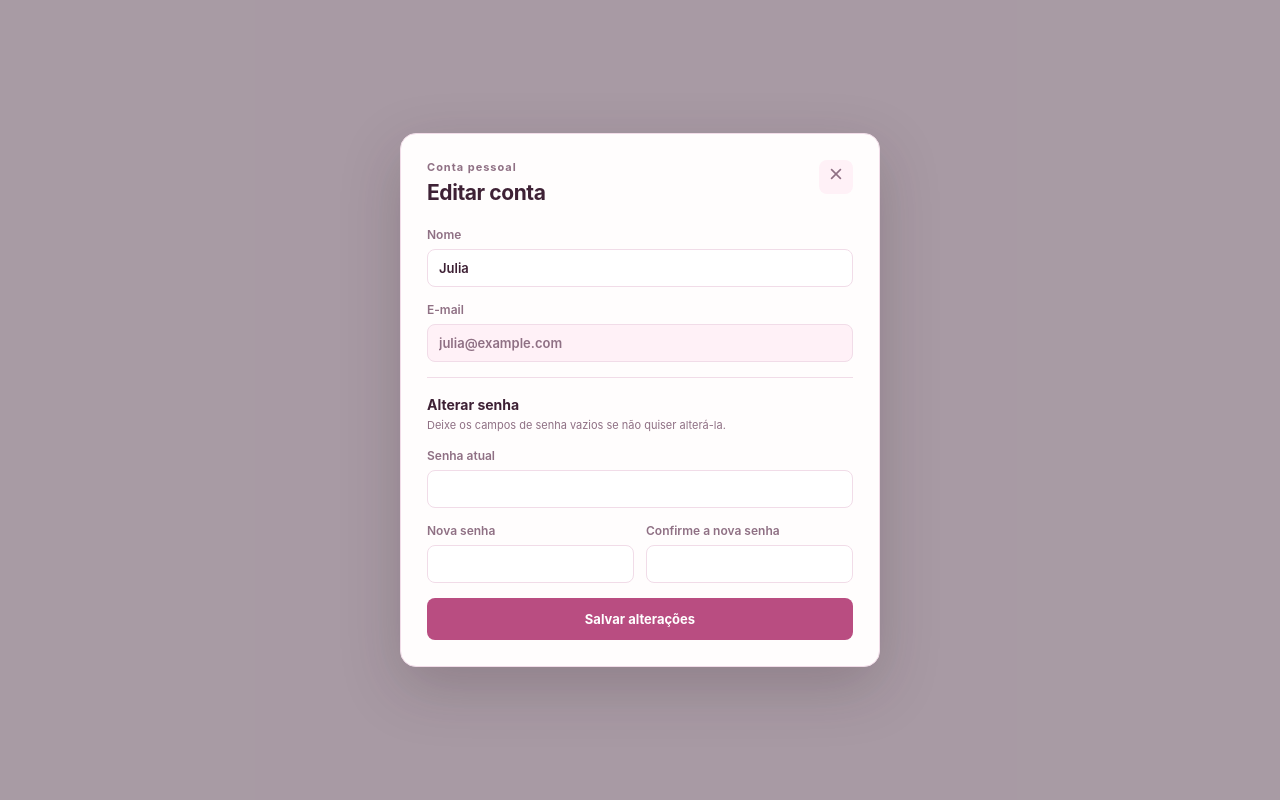
it: updates the account name and changes the password with the current password
Replace the text in the field labelled "Nome" with "Julia Costa": (640, 268) [427,249,853,287]
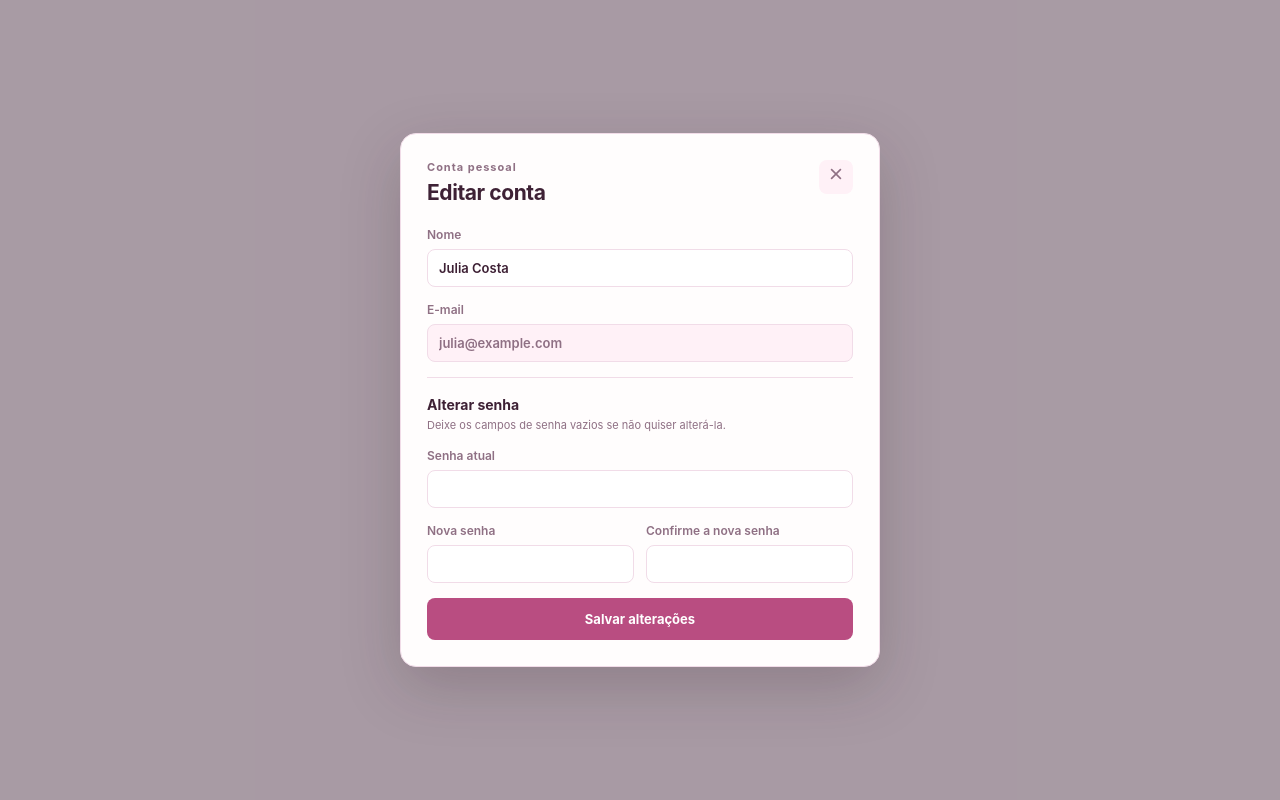
In the password field labelled "Senha atual": (640, 489) [427,470,853,508], type "old-password"
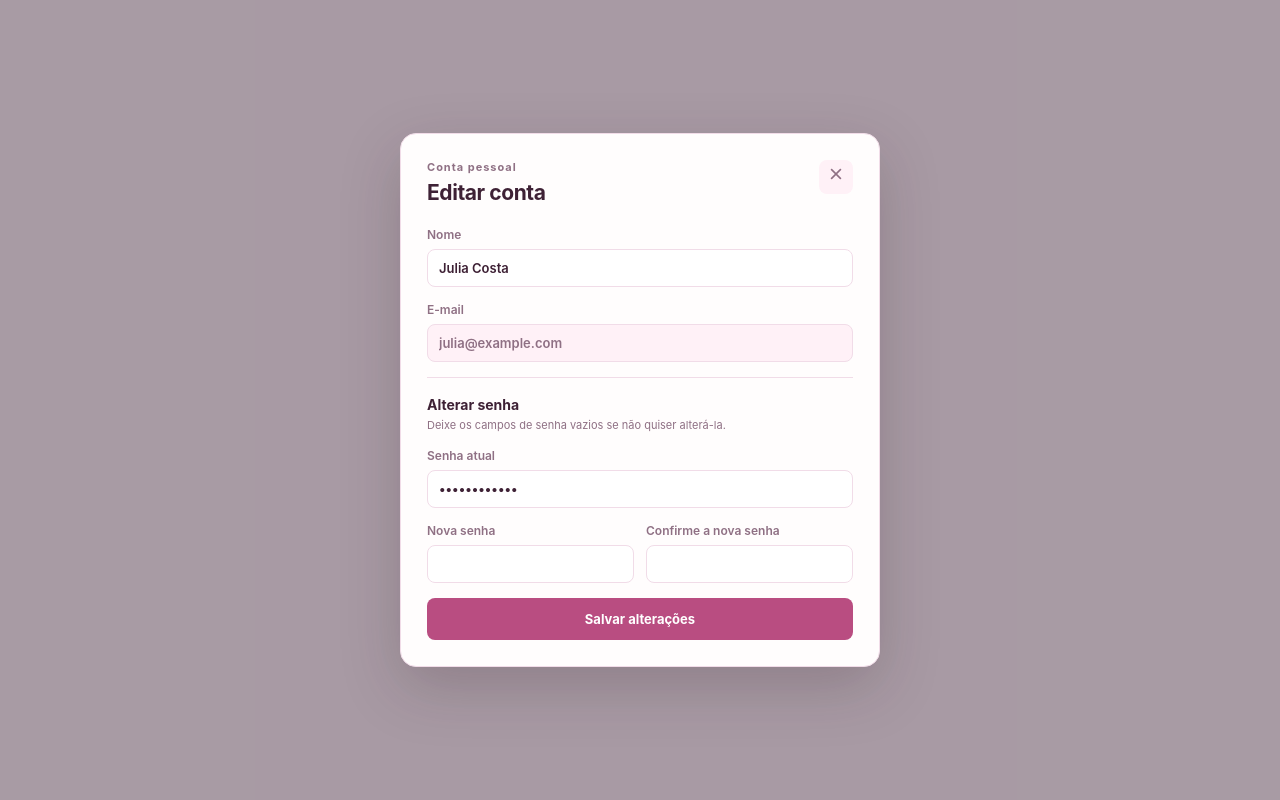
In the password field labelled "Nova senha": (530, 564) [427,545,634,583], type "new-password"
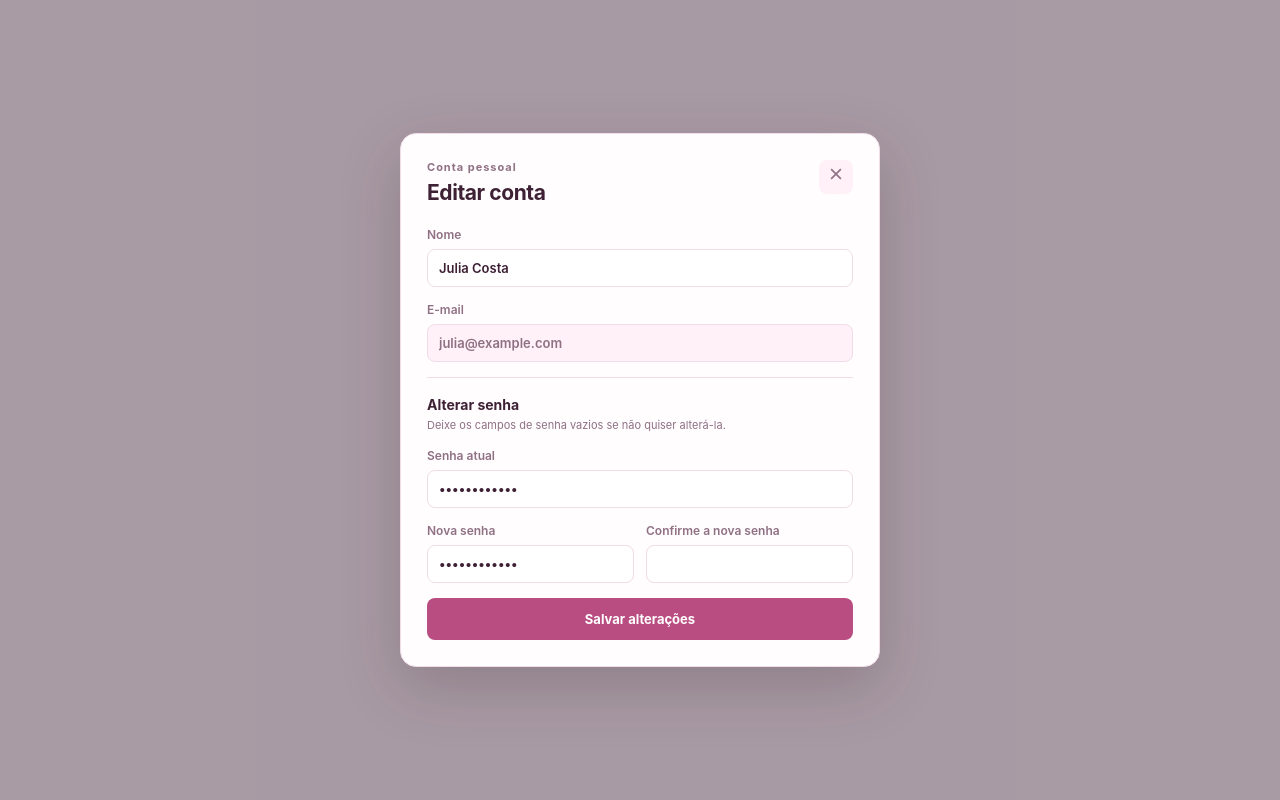
In the password field labelled "Confirme a nova senha": (750, 564) [646,545,853,583], type "new-password"
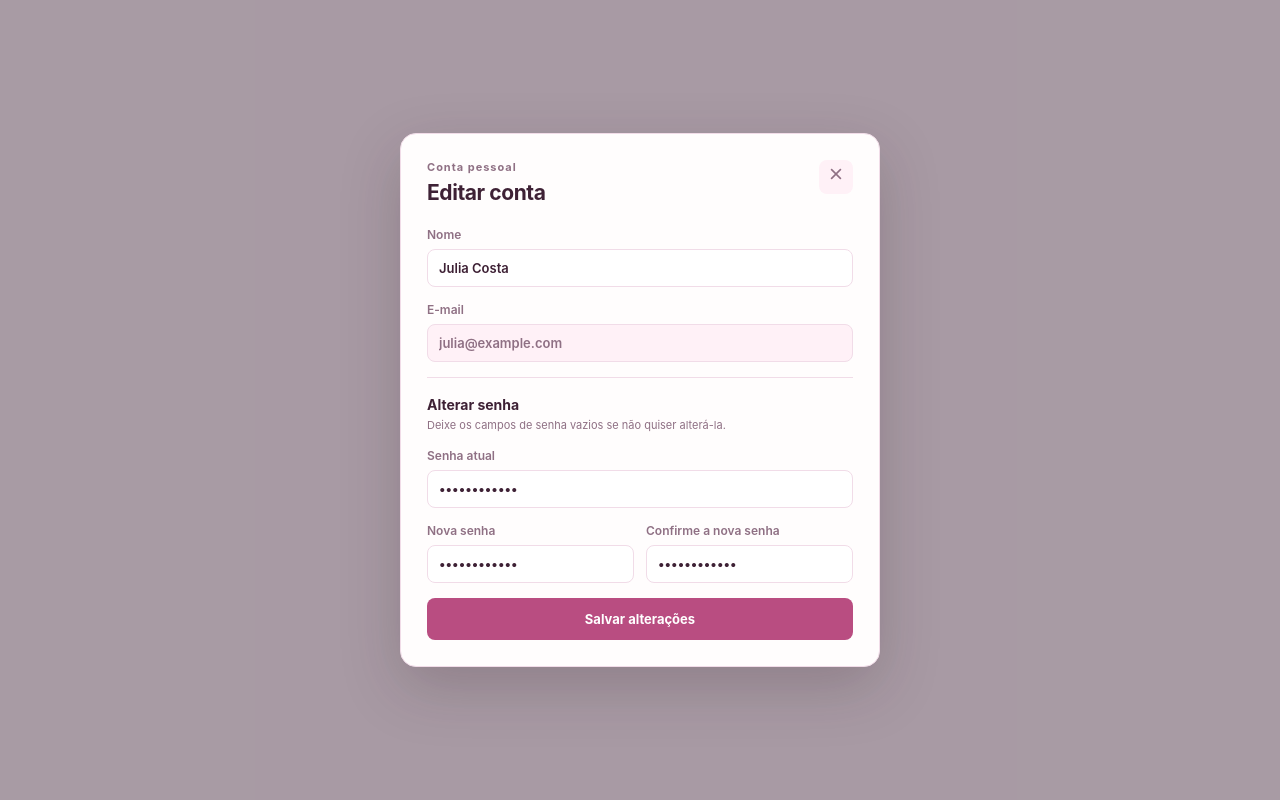
Click the button "Salvar alterações": (640, 619) [427,598,853,640]
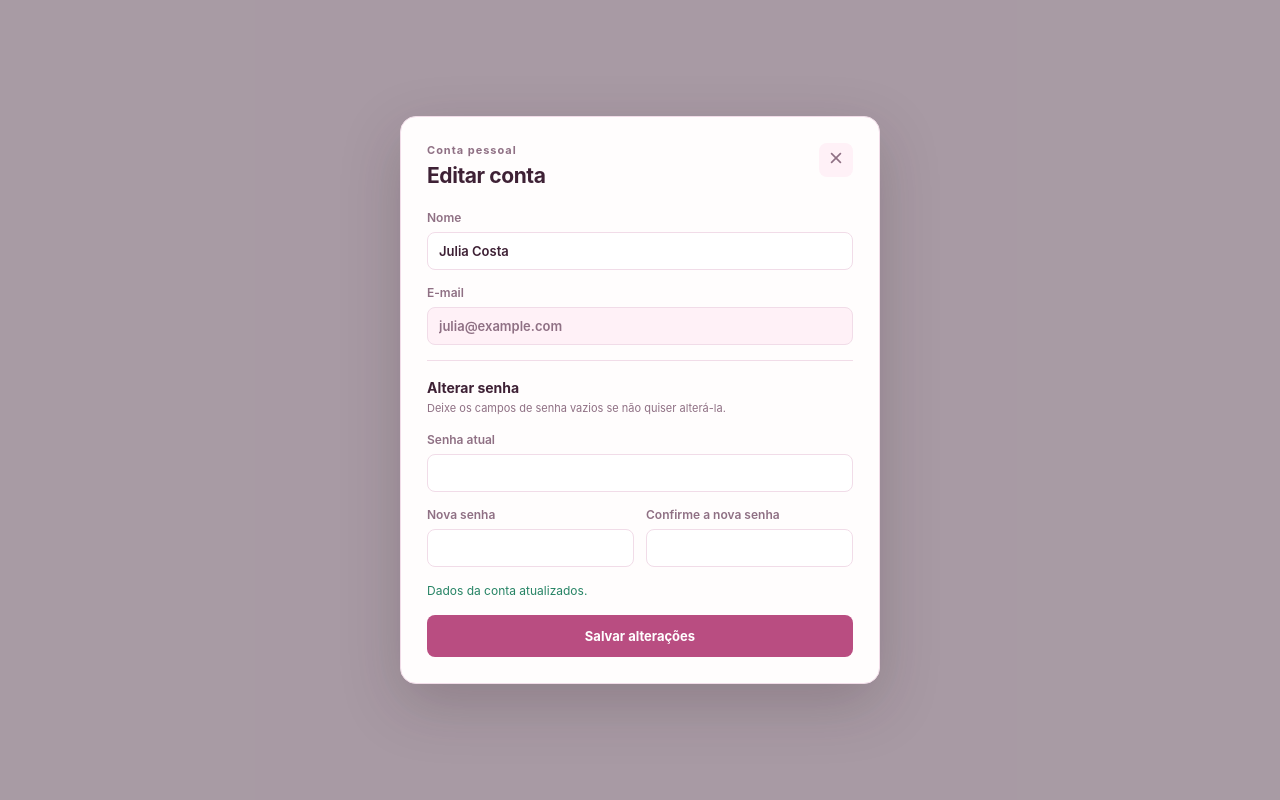
Expected: the message reads "Dados da conta atualizados.", [427,583,587,598]
